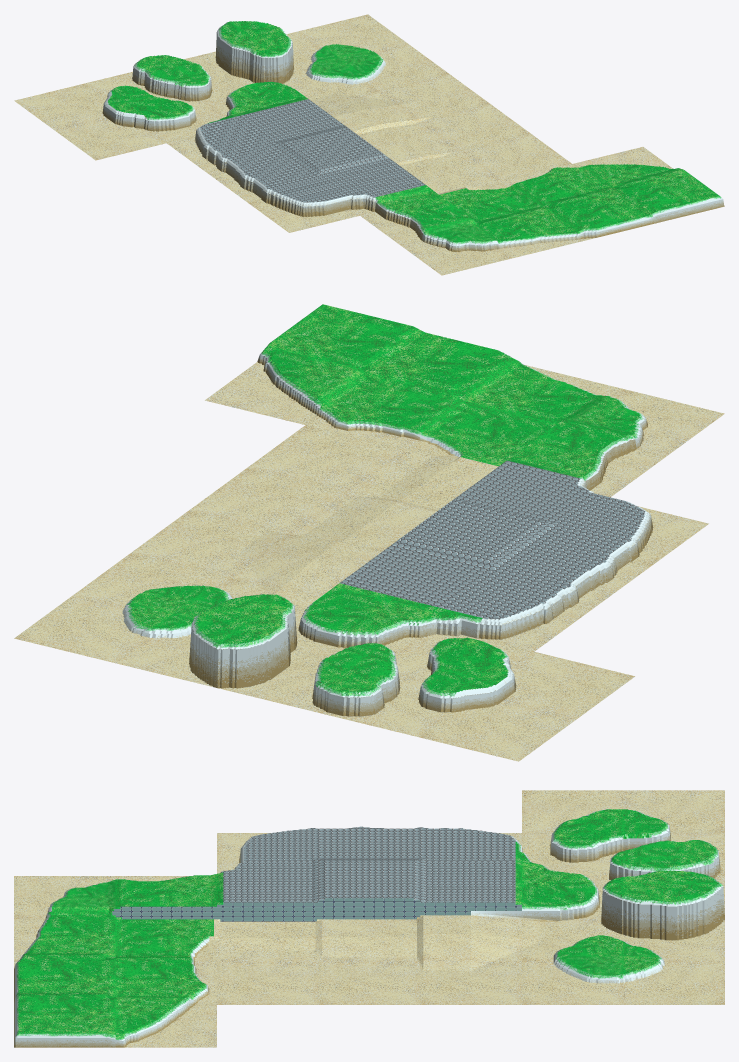
The model's file is catscape_hub_level.glb.
3 views of the same model, one above another, from view 1: azimuth 30°, elevation 25°; view 2: azimuth 150°, elevation 25°; view 3: azimuth 270°, elevation 25° (orthographic). The views are drawn at different scales.
Visible parts, largest first — view 1: Chunk 1.011, Chunk 1.003, Chunk 1.015, Chunk 1.007, Chunk 1.001, Chunk 1.000, Chunk 1.024, Chunk 1.021, Chunk 1.027, Chunk 1.010, Chunk 1.002, Chunk 1.019 (+18 smaller); view 2: Chunk 1.027, Chunk 1.028, Chunk 1.019, Chunk 1.015, Chunk 1.005, Chunk 1.004, Chunk 1.029, Chunk 1.022, Chunk 1.026, Chunk 1.007, Chunk 1.025, Chunk 1.018 (+18 smaller); view 3: Chunk 1.026, Chunk 1.013, Chunk 1.009, Chunk 1.017, Chunk 1.000, Chunk 1.021, Chunk 1.006, Chunk 1.004, Chunk 1.014, Chunk 1.020, Chunk 1.018, Chunk 1.023 (+18 smaller).
Part boxes in pixels (x1,y1,x2,y2): Chunk 1.011: (248,173,359,232); Chunk 1.003: (401,219,511,275); Chunk 1.015: (207,142,318,202); Chunk 1.007: (360,188,471,245); Chunk 1.001: (543,187,653,240); Chunk 1.000: (613,168,724,223); Chunk 1.024: (55,102,165,160); Chunk 1.021: (268,45,378,104); Chunk 1.027: (162,22,266,92); Chunk 1.010: (319,156,429,215); Chunk 1.002: (472,207,582,258); Chunk 1.019: (167,115,277,172); Chunk 1.027: (216,604,374,712); Chunk 1.028: (317,648,475,736); Chunk 1.019: (434,565,592,651); Chunk 1.015: (492,523,650,608); Chunk 1.005: (306,373,464,449); Chunk 1.004: (205,346,363,424); Chunk 1.029: (418,678,576,761); Chunk 1.022: (274,587,432,657); Chunk 1.026: (115,596,273,687); Chunk 1.007: (509,419,666,497); Chunk 1.025: (14,596,172,662); Chunk 1.018: (334,542,491,611); Chunk 1.026: (623,883,724,961); Chunk 1.013: (318,906,420,961); Chunk 1.009: (217,906,318,961); Chunk 1.017: (420,906,521,961); Chunk 1.000: (14,994,115,1047); Chunk 1.021: (522,883,623,961); Chunk 1.006: (115,906,216,961); Chunk 1.004: (115,997,216,1047); Chunk 1.014: (318,859,420,906); Chunk 1.020: (522,956,623,1004); Chunk 1.018: (420,859,521,906); Chunk 1.023: (522,818,623,875).
Size of the model in its own units: 384 by 25 by 448.
Materials: 6 (6 with a texture image).
